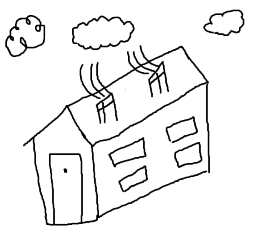clouds: (68, 13, 135, 51), (5, 13, 46, 58), (202, 9, 246, 36)
door: (44, 147, 89, 229)
open_window: (108, 137, 146, 167), (119, 164, 149, 193), (166, 115, 198, 142), (173, 141, 202, 168)
roof: (22, 44, 207, 146)
smoking_chimney: (75, 60, 119, 123), (124, 44, 170, 98)
wall: (29, 104, 103, 226)
